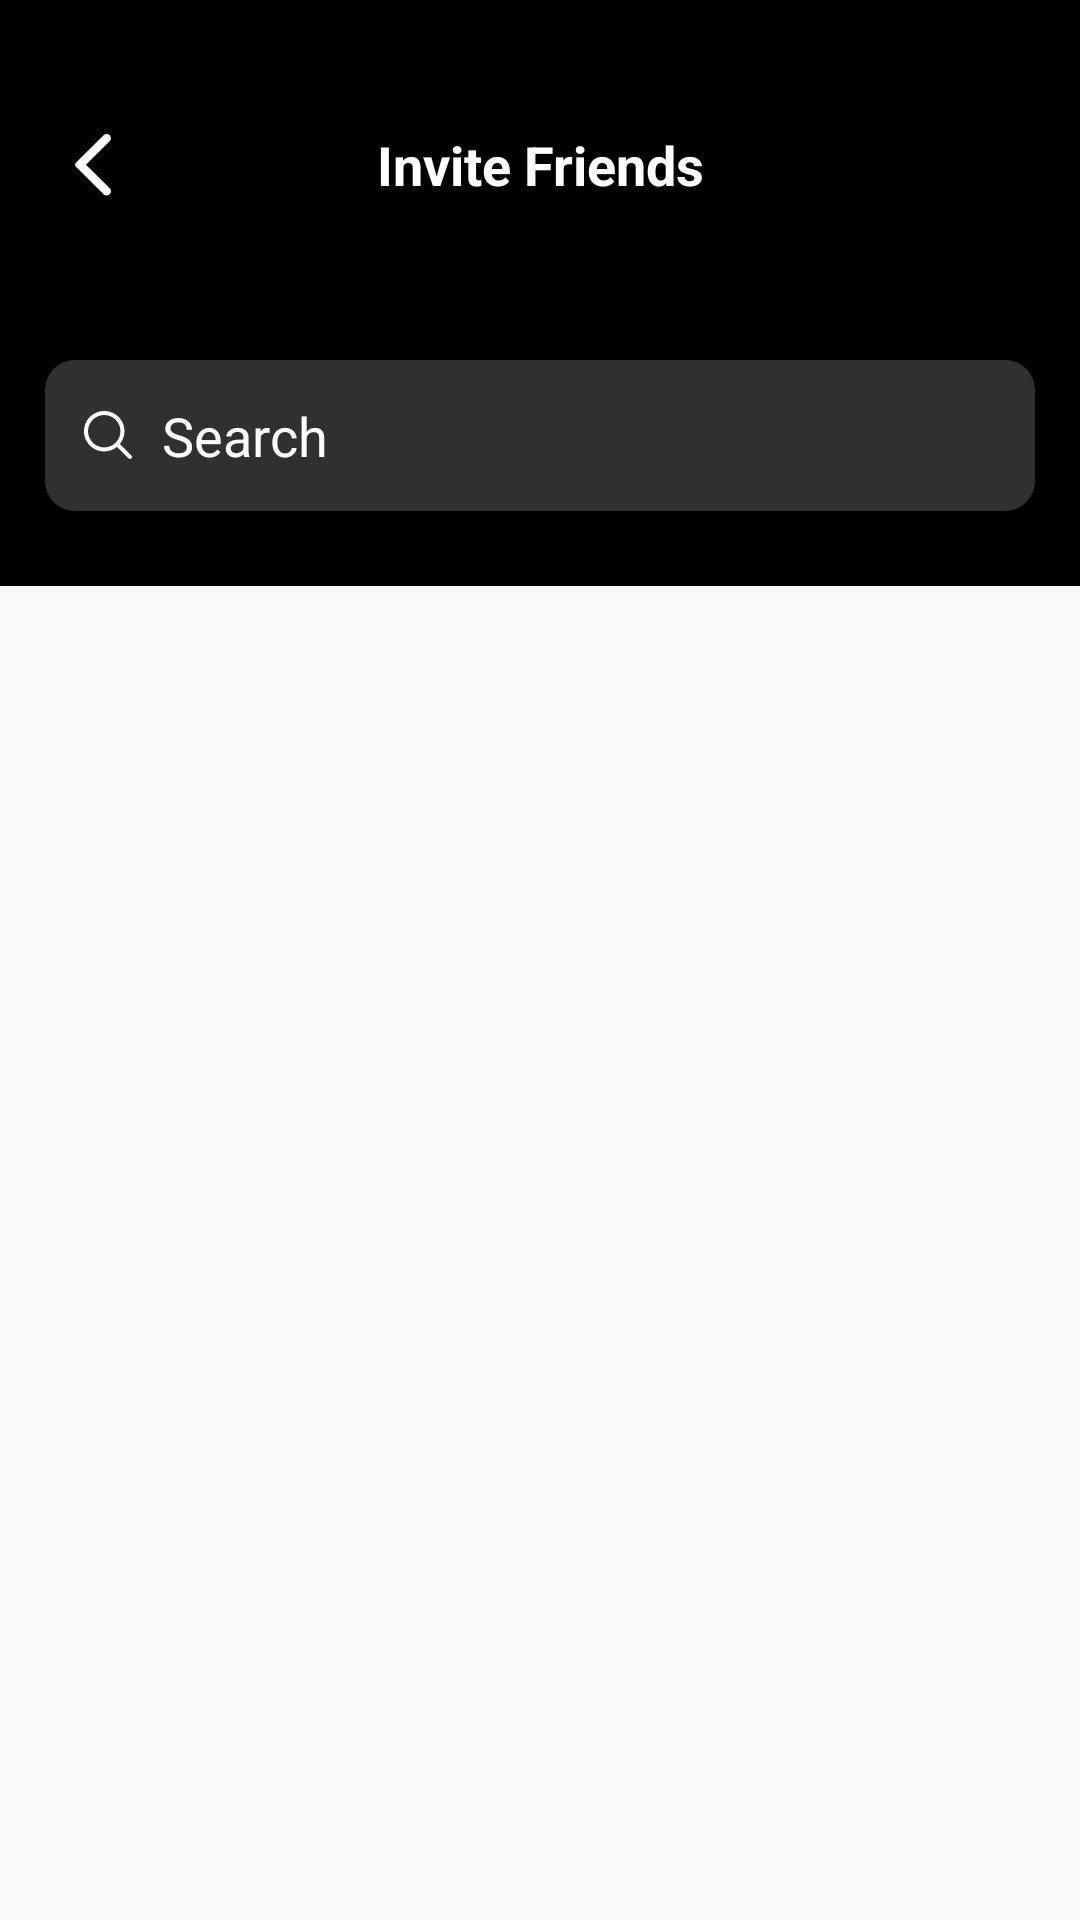

Screen size 1080 × 1920. Icon name, then its box in pixels as (x1, y1, x2, y2):
left arrow: (75, 134, 111, 196)
